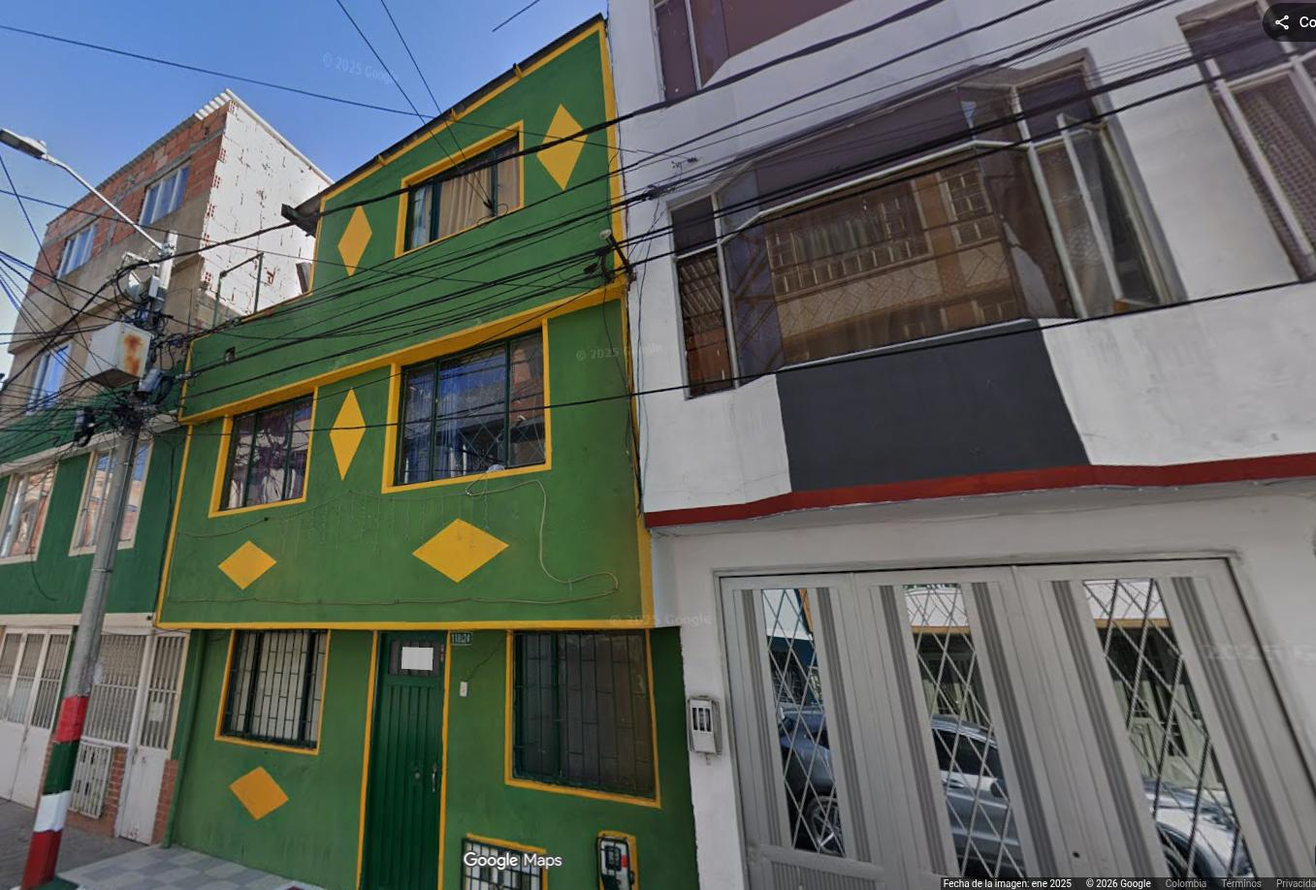casa: (605, 0, 1315, 889), (156, 16, 697, 889), (0, 90, 327, 804), (70, 629, 189, 842), (107, 380, 184, 625)
poste: (0, 131, 177, 889)
